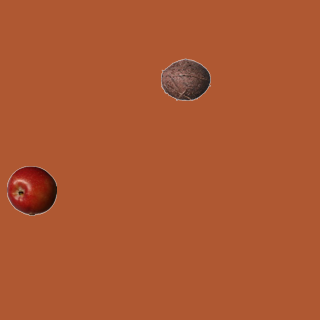Apple Braeburn: (6, 165, 56, 215)
Cocos: (160, 54, 210, 104)
